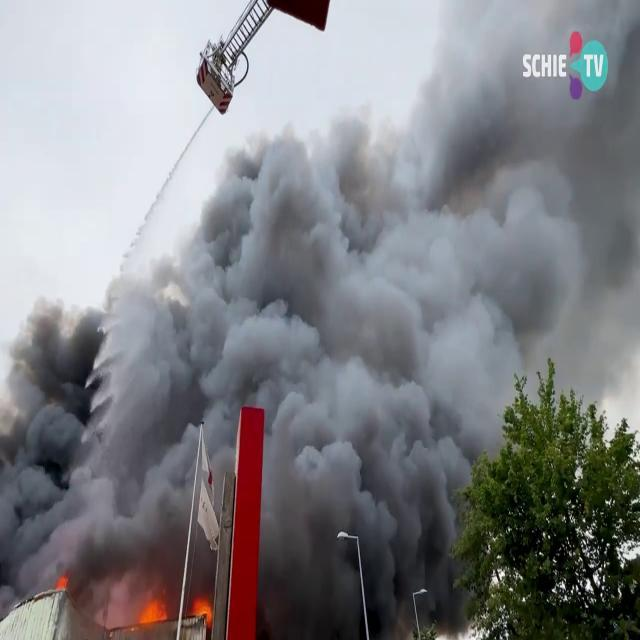Fire: (96, 588, 174, 633)
Smoke: (0, 55, 638, 596)
